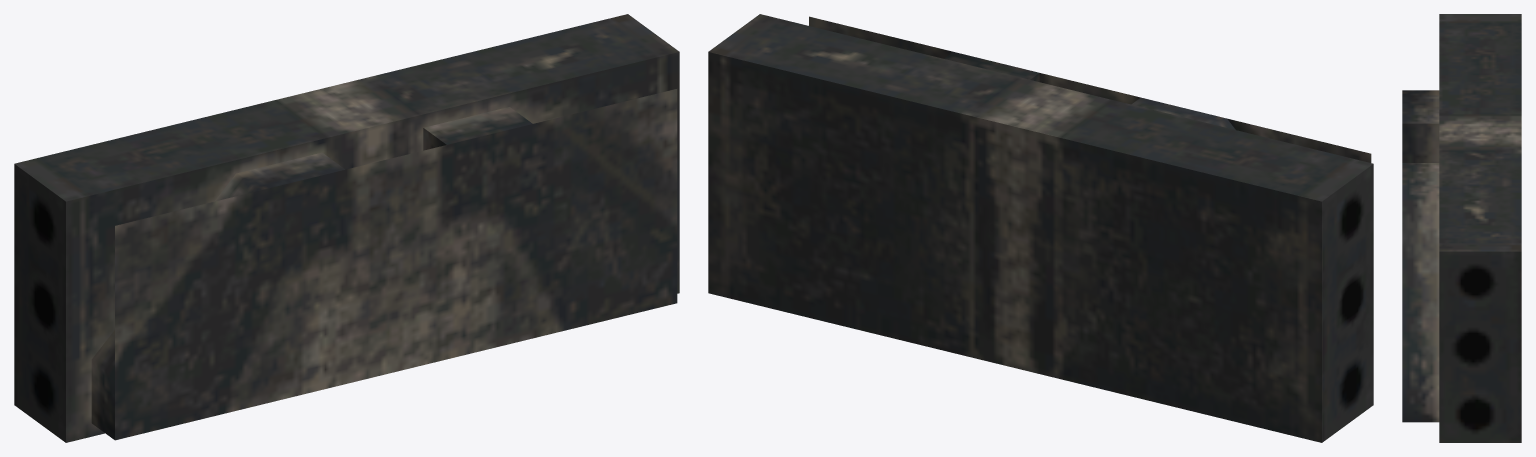
The model's file is segment_01_pair_1.glb.
The picture shows the model from 3 angles, left to right: view 1: azimuth 30°, elevation 25°; view 2: azimuth 150°, elevation 25°; view 3: azimuth 270°, elevation 25°; orthographic projection. The views are drawn at different scales.
Visible parts, largest first — view 1: set_0_group_0; view 2: set_0_group_0; view 3: set_0_group_0.
Boxes of the visible parts, x1,y1,x2,y2 form: set_0_group_0: (14, 14, 679, 442); set_0_group_0: (708, 14, 1373, 442); set_0_group_0: (1402, 14, 1521, 442).
Size of the model in its own units: 0.479 by 0.18 by 0.1016.
1 material, 1 textured.
